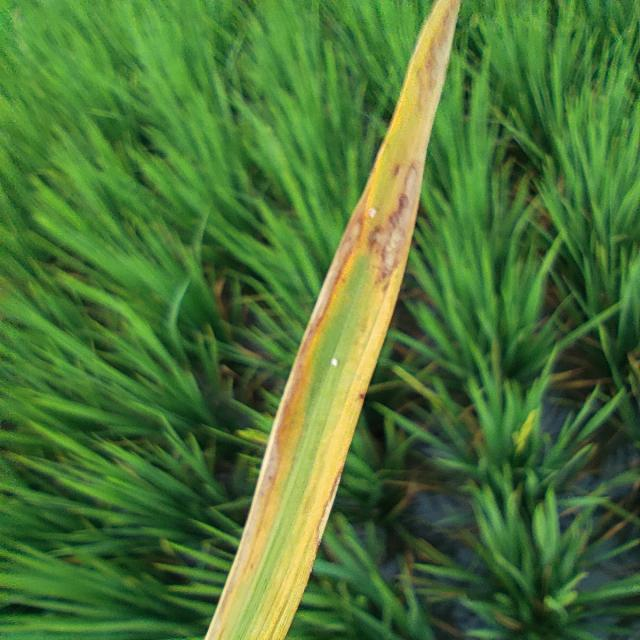Bacterial_Leaf_Blight: (278, 3, 445, 585), (210, 200, 381, 633)
